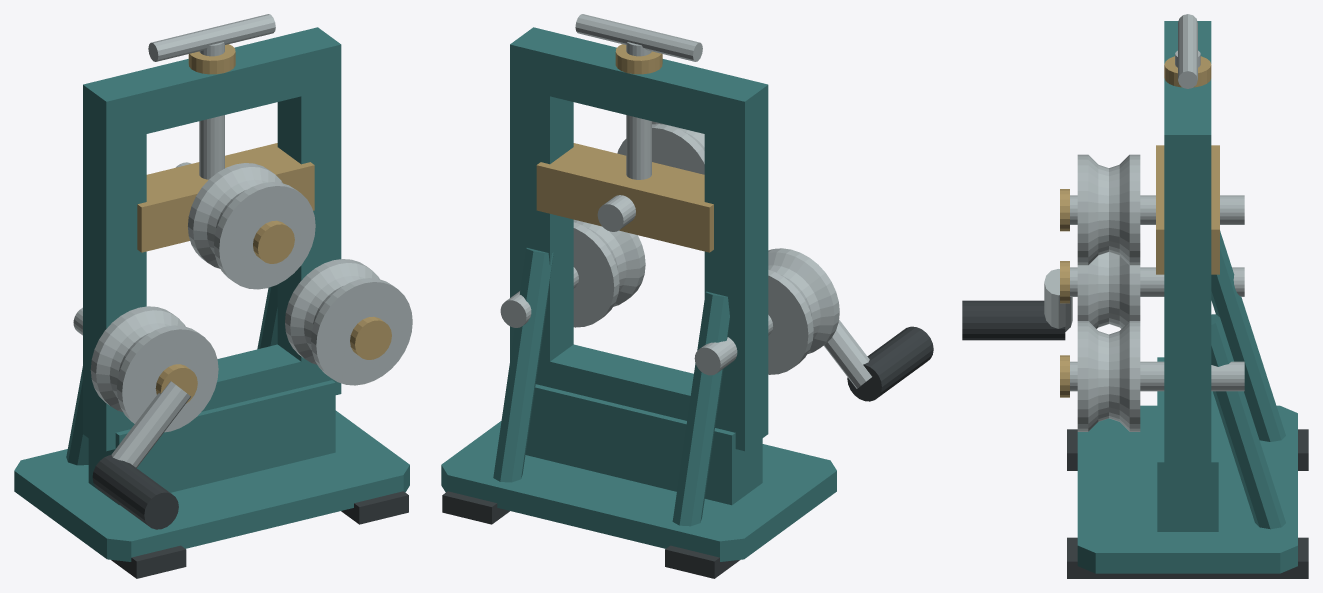
3 views of the same model, side by side, from view 1: azimuth 30°, elevation 25°; view 2: azimuth 150°, elevation 25°; view 3: azimuth 270°, elevation 25° (orthographic).
Parts seen in each view (by area): view 1: WholeContinuousSlottedUpright, WholeLowMountBase, WholeFrameLowerPedestal, WholeSideGroovedRoll2, WholeSideGroovedRoll1, WholeSideGroovedRoll0, WholeUpperCrossSlotCarriage, WholeFixedCrankGrip, WholeOffsetLowerCrank, WholeAdjustmentCrossHandle, WholeVerticalAdjustmentScrew, WholeGroundShoe0 (+7 smaller); view 2: WholeContinuousSlottedUpright, WholeLowMountBase, WholeFrameLowerPedestal, WholeUpperCrossSlotCarriage, WholeSideGroovedRoll0, WholeRearUprightBrace1, WholeRearUprightBrace0, WholeSideGroovedRoll1, WholeFixedCrankGrip, WholeAdjustmentCrossHandle, WholeSideGroovedRoll2, WholeVerticalAdjustmentScrew (+7 smaller); view 3: WholeLowMountBase, WholeContinuousSlottedUpright, WholeSideGroovedRoll2, WholeSideGroovedRoll1, WholeRearUprightBrace1, WholeRearUprightBrace0, WholeFrameLowerPedestal, WholeSideGroovedRoll0, WholeFixedCrankGrip, WholeGroundShoe1, WholeUpperCrossSlotCarriage, WholeThroughRollAxle1 (+6 smaller).
Part boxes in pixels (x1=…): WholeContinuousSlottedUpright: x1=83, y1=27, x2=341, y2=451; WholeLowMountBase: x1=14, y1=410, x2=409, y2=561; WholeFrameLowerPedestal: x1=88, y1=380, x2=335, y2=505; WholeSideGroovedRoll2: x1=188, y1=163, x2=315, y2=289; WholeSideGroovedRoll1: x1=285, y1=259, x2=412, y2=385; WholeSideGroovedRoll0: x1=90, y1=306, x2=218, y2=432; WholeUpperCrossSlotCarriage: x1=137, y1=143, x2=314, y2=252; WholeFixedCrankGrip: x1=92, y1=455, x2=178, y2=529; WholeOffsetLowerCrank: x1=111, y1=381, x2=190, y2=467; WholeAdjustmentCrossHandle: x1=148, y1=14, x2=275, y2=61; WholeVerticalAdjustmentScrew: x1=199, y1=42, x2=224, y2=179; WholeGroundShoe0: x1=111, y1=545, x2=186, y2=578; WholeContinuousSlottedUpright: x1=510, y1=27, x2=768, y2=451; WholeLowMountBase: x1=441, y1=421, x2=836, y2=561; WholeFrameLowerPedestal: x1=525, y1=384, x2=762, y2=505; WholeUpperCrossSlotCarriage: x1=536, y1=143, x2=713, y2=252; WholeSideGroovedRoll0: x1=768, y1=248, x2=839, y2=374; WholeRearUprightBrace1: x1=493, y1=248, x2=553, y2=482; WholeRearUprightBrace0: x1=672, y1=291, x2=729, y2=526; WholeSideGroovedRoll1: x1=573, y1=219, x2=645, y2=327; WholeFixedCrankGrip: x1=847, y1=326, x2=933, y2=401; WholeAdjustmentCrossHandle: x1=575, y1=14, x2=702, y2=61; WholeSideGroovedRoll2: x1=617, y1=121, x2=704, y2=174; WholeVerticalAdjustmentScrew: x1=626, y1=42, x2=651, y2=179; WholeLowMountBase: x1=1077, y1=405, x2=1297, y2=573; WholeContinuousSlottedUpright: x1=1164, y1=21, x2=1211, y2=482; WholeSideGroovedRoll2: x1=1077, y1=154, x2=1140, y2=265; WholeSideGroovedRoll1: x1=1077, y1=321, x2=1140, y2=431; WholeRearUprightBrace1: x1=1211, y1=314, x2=1285, y2=529; WholeRearUprightBrace0: x1=1211, y1=231, x2=1285, y2=441; WholeFrameLowerPedestal: x1=1157, y1=357, x2=1218, y2=531; WholeSideGroovedRoll0: x1=1077, y1=252, x2=1140, y2=328; WholeFixedCrankGrip: x1=962, y1=300, x2=1065, y2=340; WholeGroundShoe1: x1=1067, y1=537, x2=1308, y2=578; WholeUpperCrossSlotCarriage: x1=1156, y1=145, x2=1219, y2=274; WholeThroughRollAxle1: x1=1070, y1=361, x2=1244, y2=391.
Bounding box in the file's own units: 0.538 × 0.73 × 0.4875.
